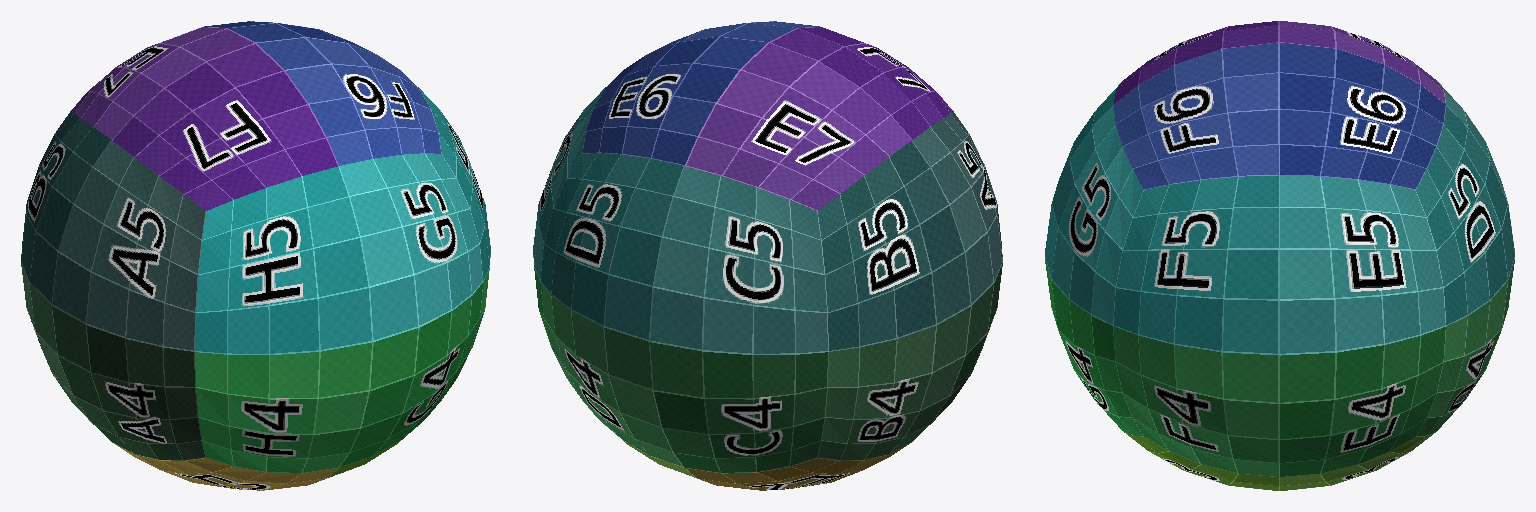
3 renders of one model, left to right at view 1: azimuth 30°, elevation 25°; view 2: azimuth 150°, elevation 25°; view 3: azimuth 270°, elevation 25°, orthographic.
Size of the model in its own units: 2.58 by 2.58 by 2.58.
1 materials, 1 textured.